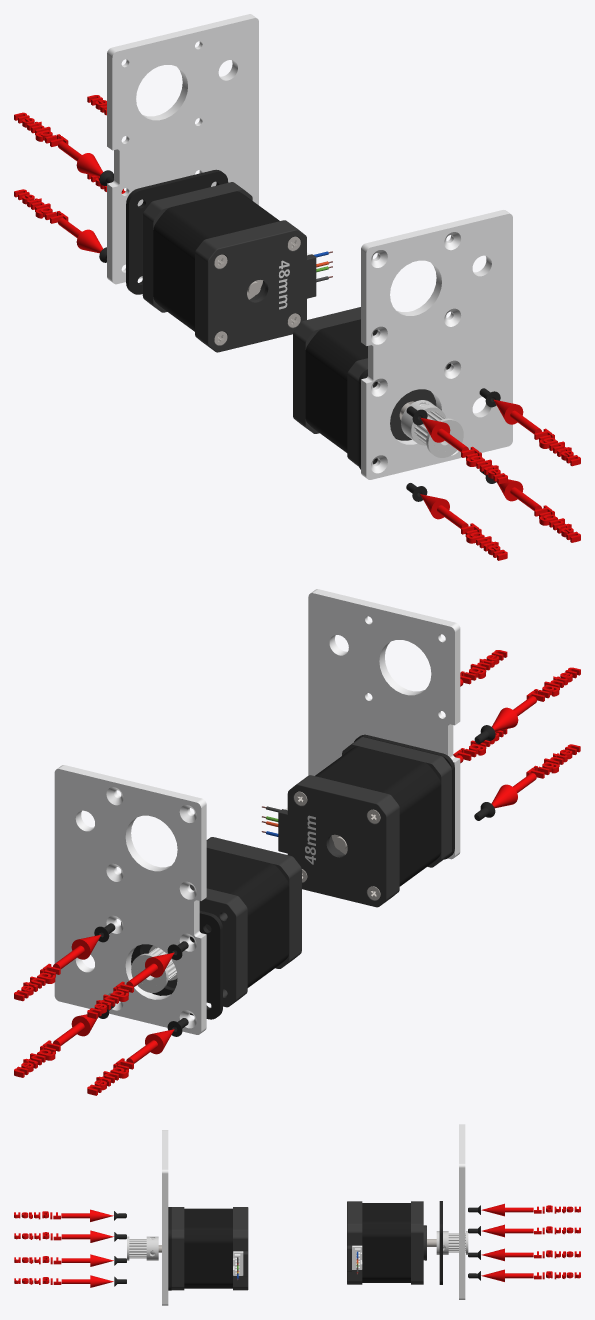
3 renders of one model, top to bottom at view 1: azimuth 30°, elevation 25°; view 2: azimuth 150°, elevation 25°; view 3: azimuth 270°, elevation 25°, orthographic. The views are drawn at different scales.
Visible parts, largest first — view 1: 03_05__XP__Bracket_Y_Axis_Shafts___V2.0 v001, 03_05__XP__Bracket_Y_Axis_Shafts___V2.0 v5, Bottom, Middle, Middle001, Shock Absorber_Nema17 v1, Top, Bottom001, Top001; view 2: 03_05__XP__Bracket_Y_Axis_Shafts___V2.0 v5, 03_05__XP__Bracket_Y_Axis_Shafts___V2.0 v001, Bottom001, Middle001, Middle, Top, Bottom, Top001, Shock Absorber_Nema17 v1, Shock Absorber_Nema17 v001, 1_0_Arrow_red-Assemble v030, 1_0_Arrow_red-Assemble v010 (+3 smaller); view 3: Middle001, Middle, 03_05__XP__Bracket_Y_Axis_Shafts___V2.0 v5, 03_05__XP__Bracket_Y_Axis_Shafts___V2.0 v001, Top, Top001, Bottom001, Bottom, COMPOUND004, 1_0_Arrow_red-Assemble v050, 1_0_Arrow_red-Assemble v010, 1_0_Arrow_red-Assemble v4 (+8 smaller).
Boxes of the visible parts, x1,y1,x2,y2 form: 03_05__XP__Bracket_Y_Axis_Shafts___V2.0 v001: (361,210,512,479); 03_05__XP__Bracket_Y_Axis_Shafts___V2.0 v5: (107,14,258,284); Bottom: (195,220,316,352); Middle: (153,191,279,331); Middle001: (305,319,377,452); Shock Absorber_Nema17 v1: (126,169,228,294); Top: (142,182,252,312); Bottom001: (293,307,360,433); Top001: (347,358,447,466); 03_05__XP__Bracket_Y_Axis_Shafts___V2.0 v5: (54,765,206,1034); 03_05__XP__Bracket_Y_Axis_Shafts___V2.0 v001: (308,589,460,859); Bottom001: (278,775,399,907); Middle001: (315,746,441,886); Middle: (206,848,289,987); Top: (142,884,247,1007); Bottom: (206,837,301,968); Top001: (342,737,451,867); Shock Absorber_Nema17 v1: (121,910,222,1019); Shock Absorber_Nema17 v001: (354,734,454,859); 1_0_Arrow_red-Assemble v030: (126,1029,174,1063); 1_0_Arrow_red-Assemble v010: (126,952,174,986); Middle001: (184,1208,232,1288); Middle: (362,1203,410,1282); 03_05__XP__Bracket_Y_Axis_Shafts___V2.0 v5: (459,1124,465,1299); 03_05__XP__Bracket_Y_Axis_Shafts___V2.0 v001: (162,1130,168,1305); Top: (411,1201,426,1284); Top001: (171,1207,184,1290); Bottom001: (233,1207,248,1290); Bottom: (347,1201,362,1284); COMPOUND004: (129,1239,154,1258); 1_0_Arrow_red-Assemble v050: (61,1230,113,1242); 1_0_Arrow_red-Assemble v010: (481,1203,533,1216); 1_0_Arrow_red-Assemble v4: (482,1224,533,1237).
Bounding box in the file's own units: 0.062 × 0.098 × 0.3552.
